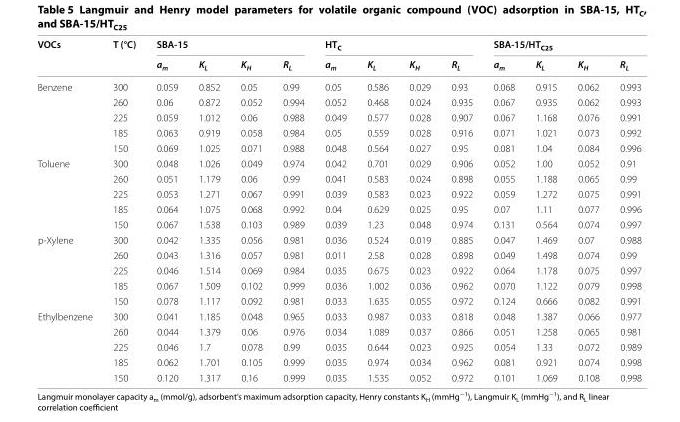table: (36, 37, 641, 382)
table column: (36, 37, 102, 382), (102, 37, 145, 382), (229, 37, 272, 382), (566, 37, 609, 382), (145, 37, 187, 382), (187, 37, 229, 382), (272, 37, 314, 382), (314, 37, 356, 382), (356, 37, 398, 382), (398, 37, 440, 382), (440, 37, 482, 382), (482, 37, 524, 382), (524, 37, 566, 382), (609, 37, 641, 382)
table column header: (36, 37, 641, 76)
table row: (36, 54, 641, 76), (36, 76, 641, 94), (36, 37, 641, 54), (36, 124, 641, 140), (36, 185, 641, 201), (36, 231, 641, 247), (36, 292, 641, 308), (36, 338, 641, 354), (36, 94, 641, 109), (36, 109, 641, 124), (36, 140, 641, 155), (36, 155, 641, 170), (36, 170, 641, 185), (36, 201, 641, 216), (36, 216, 641, 231), (36, 247, 641, 262), (36, 262, 641, 277), (36, 277, 641, 292), (36, 308, 641, 323), (36, 323, 641, 338), (36, 354, 641, 369), (36, 369, 641, 382)
table spanning cell: (36, 76, 102, 155), (36, 231, 102, 308), (36, 155, 102, 231), (36, 308, 102, 382), (145, 37, 314, 54), (314, 37, 482, 54), (482, 37, 641, 54), (36, 37, 102, 76), (102, 37, 145, 76)
